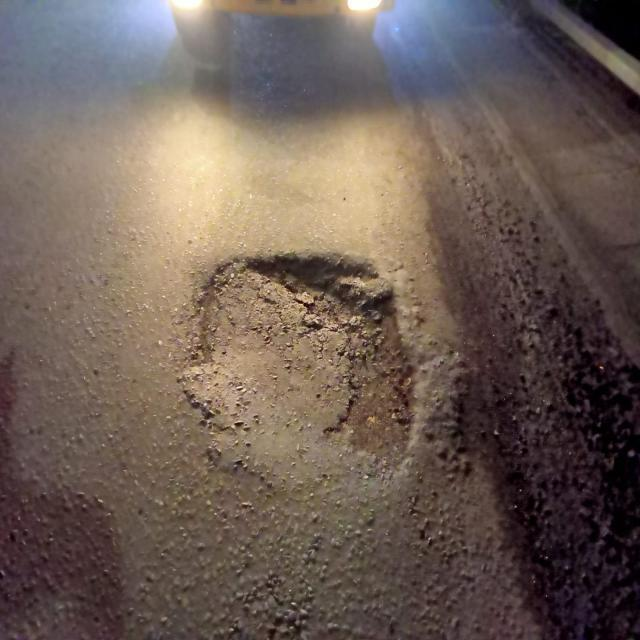Buraco: (240, 249, 423, 476)
